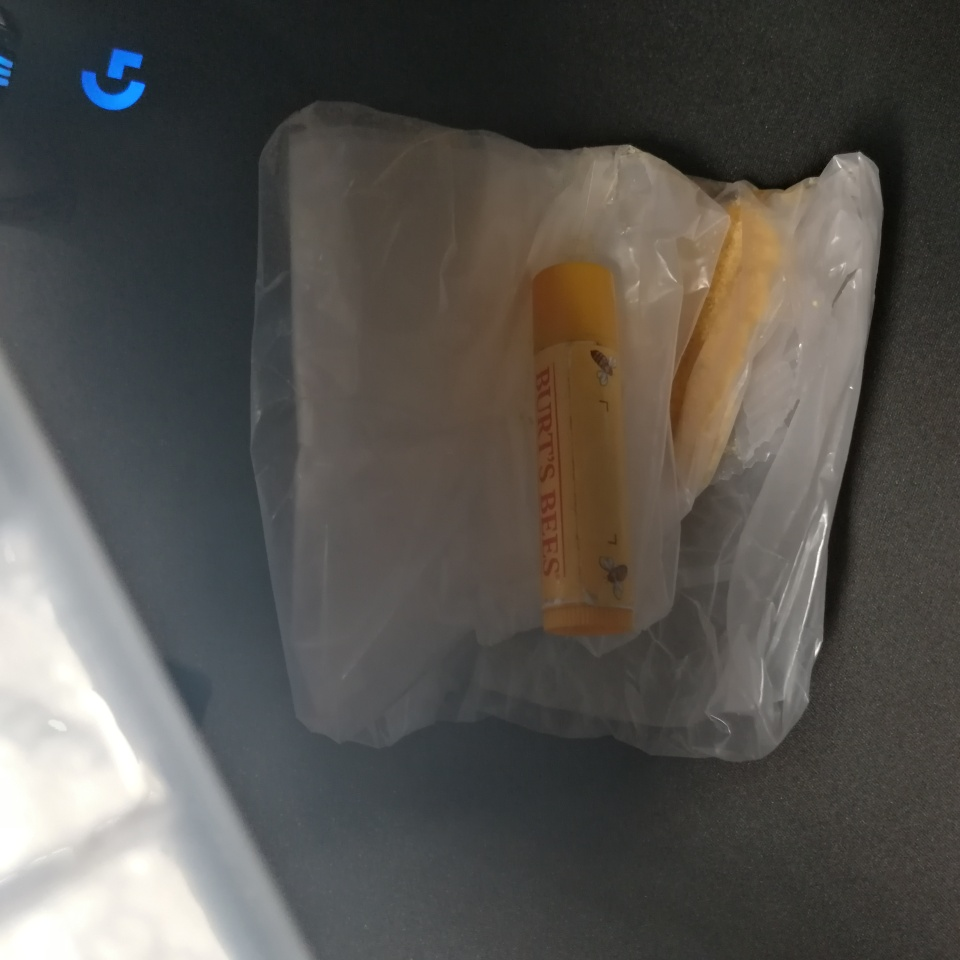chapstick: (529, 260, 637, 639)
